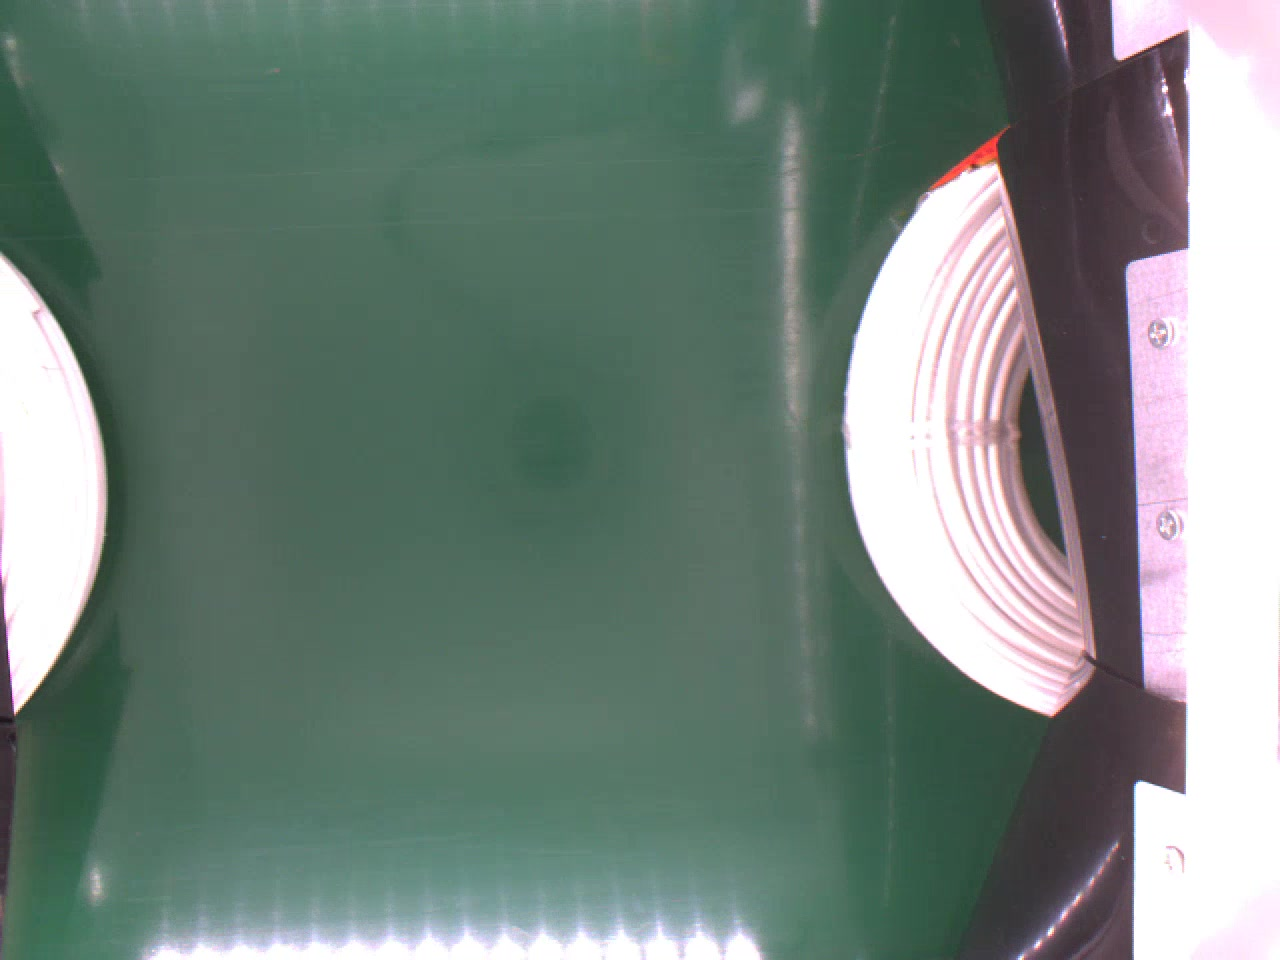white: (841, 121, 1083, 715)
